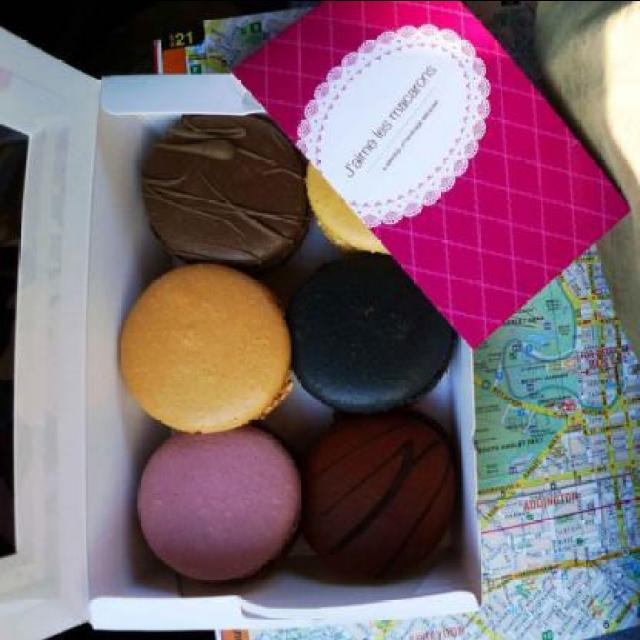Macaron: (113, 114, 485, 580)
